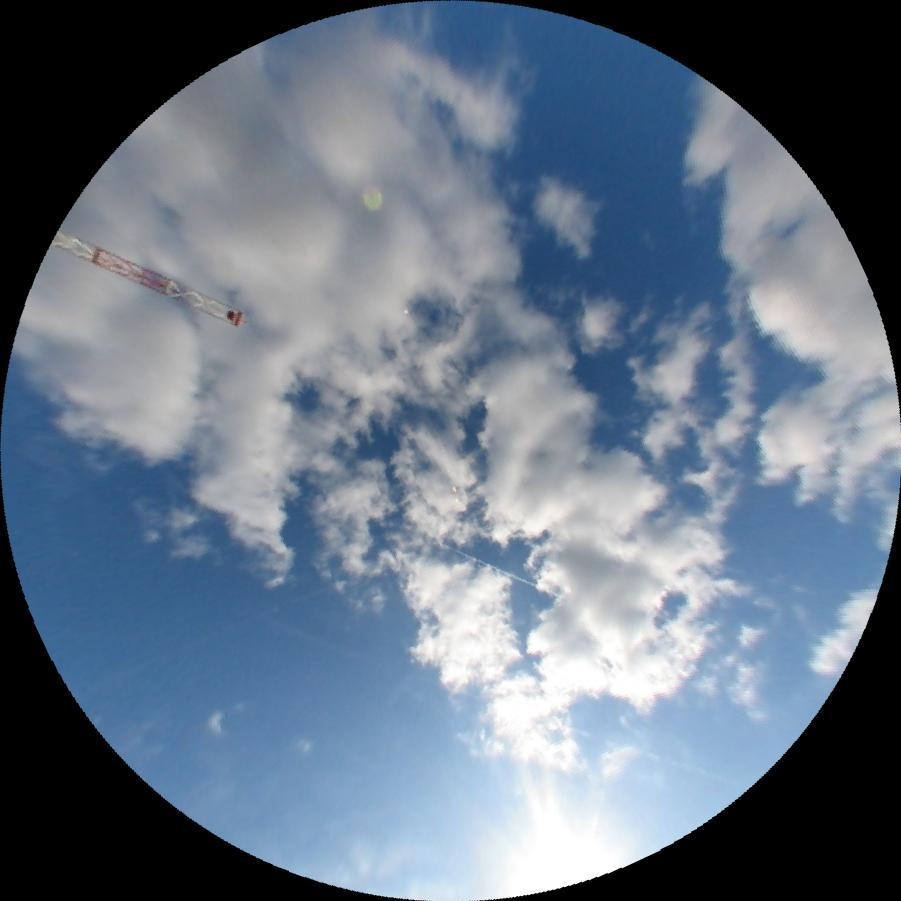contrail young: (443, 544, 562, 598)
parasite: (71, 583, 333, 695)
unknow: (264, 613, 726, 785)
